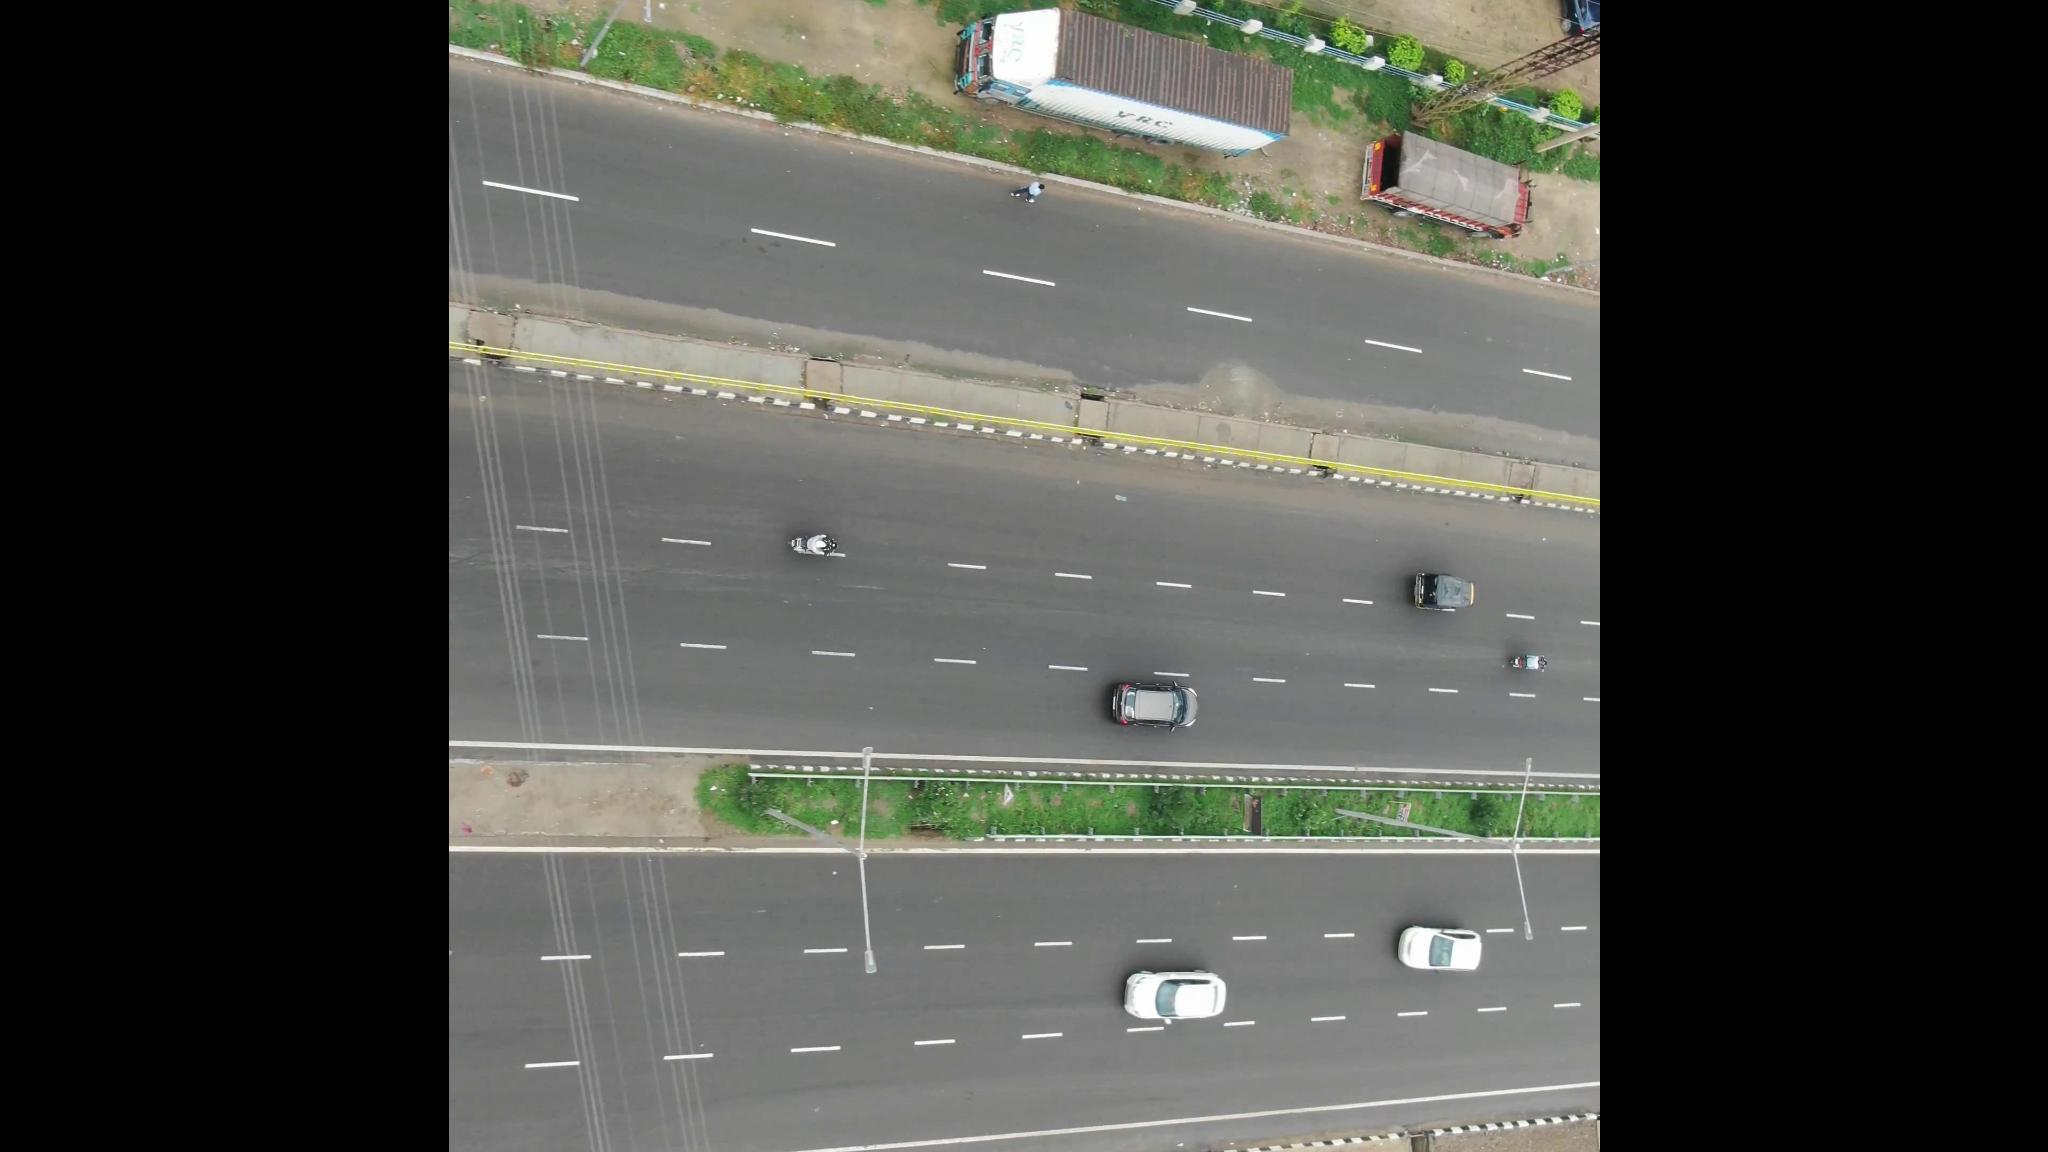Ravelling: (463, 520, 709, 598)
